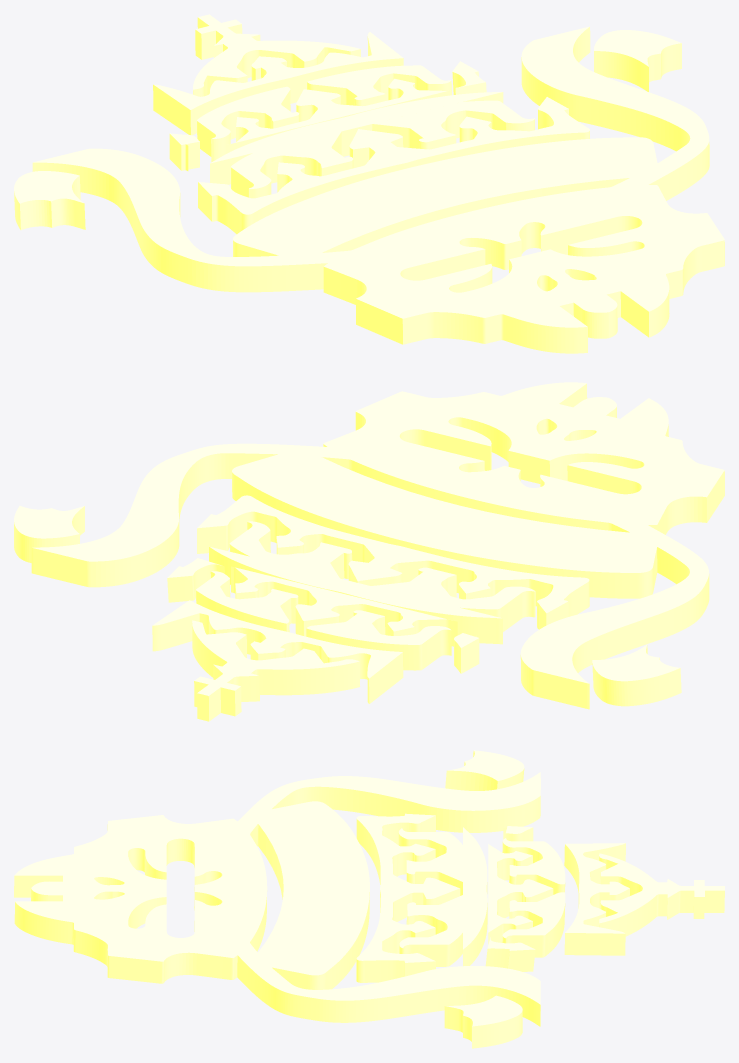
3 renders of one model, top to bottom at view 1: azimuth 30°, elevation 25°; view 2: azimuth 150°, elevation 25°; view 3: azimuth 270°, elevation 25°, orthographic. The views are drawn at different scales.
Visible parts, largest first — view 1: Curve; view 2: Curve; view 3: Curve.
Boxes of the visible parts, x1,y1,x2,y2 form: Curve: (14, 14, 724, 353); Curve: (14, 382, 724, 721); Curve: (14, 750, 724, 1048).
Bounding box in the file's own units: 15.13 × 0.5654 × 16.45.
